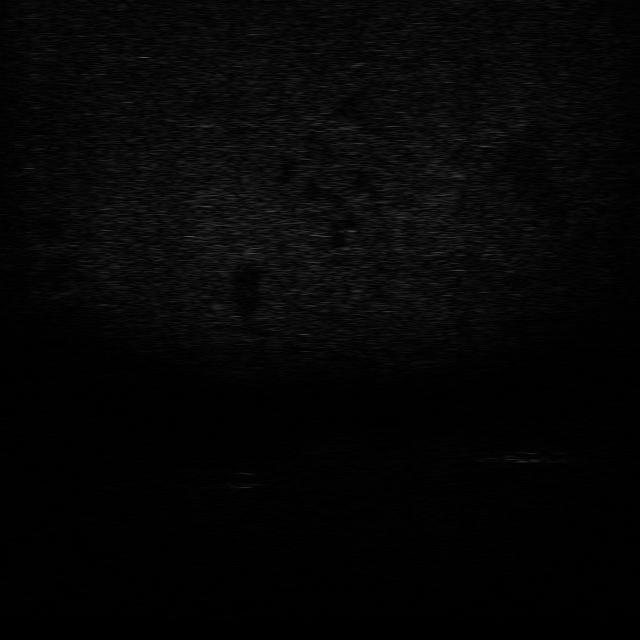ball: (219, 467, 265, 491)
human body: (480, 439, 571, 469)
